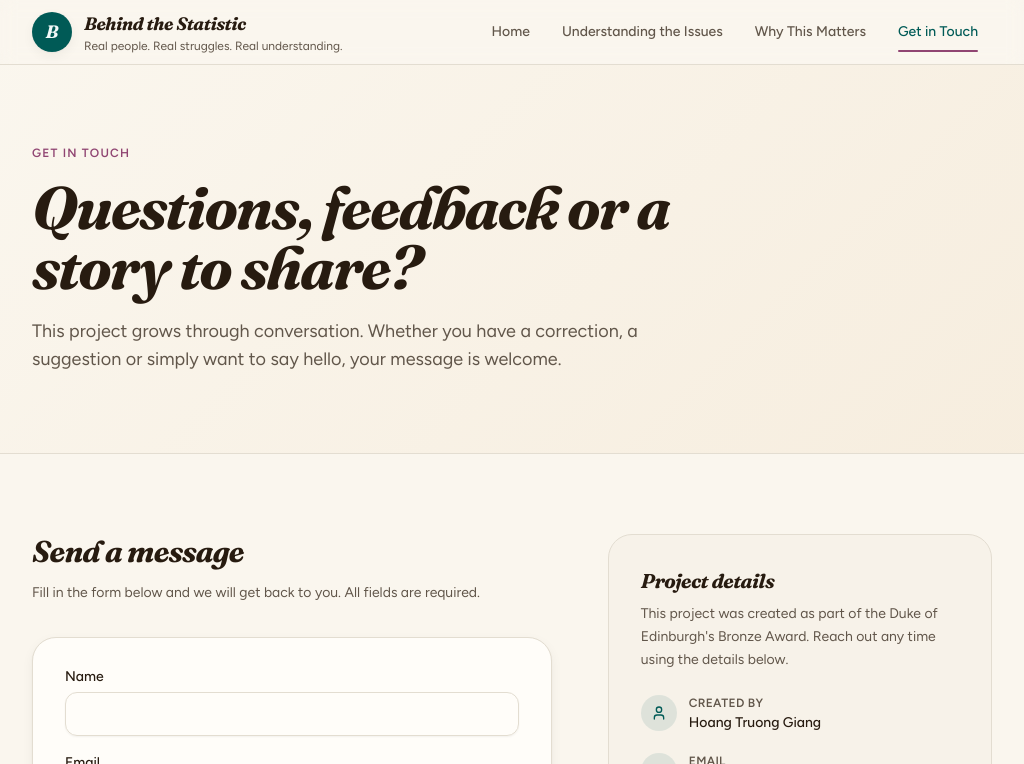
Scenario: Get in Touch — contact submission consumer contract › sends the trimmed form values to submitContact and reports success
The width and height of the screenshot is (1024, 764).
Type "  Ada Lovelace  " into the field labelled "Name".
click(292, 714); type("  Ada Lovelace  ")  # box [65,692,519,736]
(page scrolled)
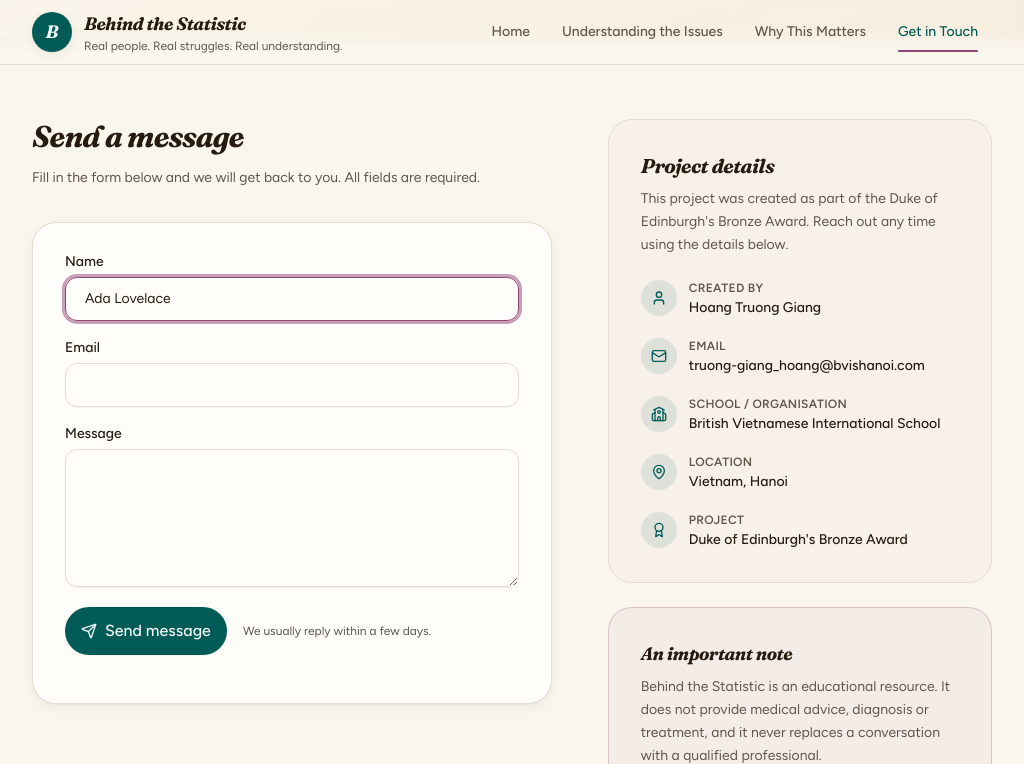
Type "  ada@example.com  " into the field labelled "Email".
click(292, 385); type("  ada@example.com  ")  # box [65,363,519,407]
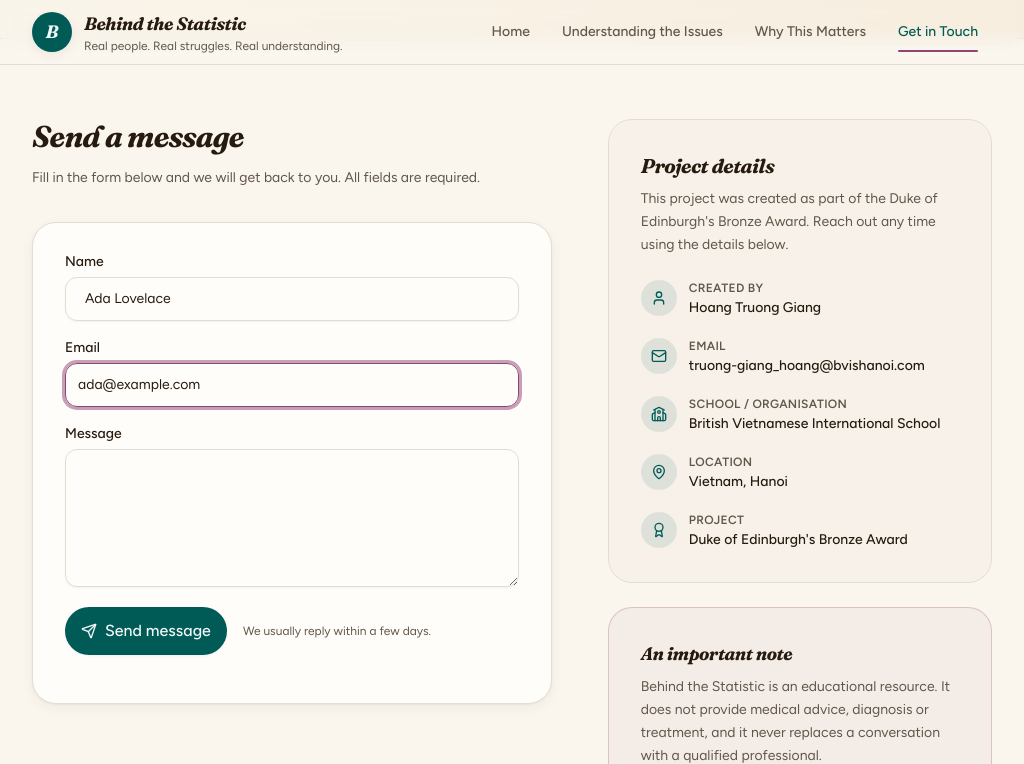
Type "  I found this resource really helpful, thank you.  " into the text box labelled "Message".
click(292, 518); type("  I found this resource really helpful, thank you.  ")  # box [65,449,519,587]
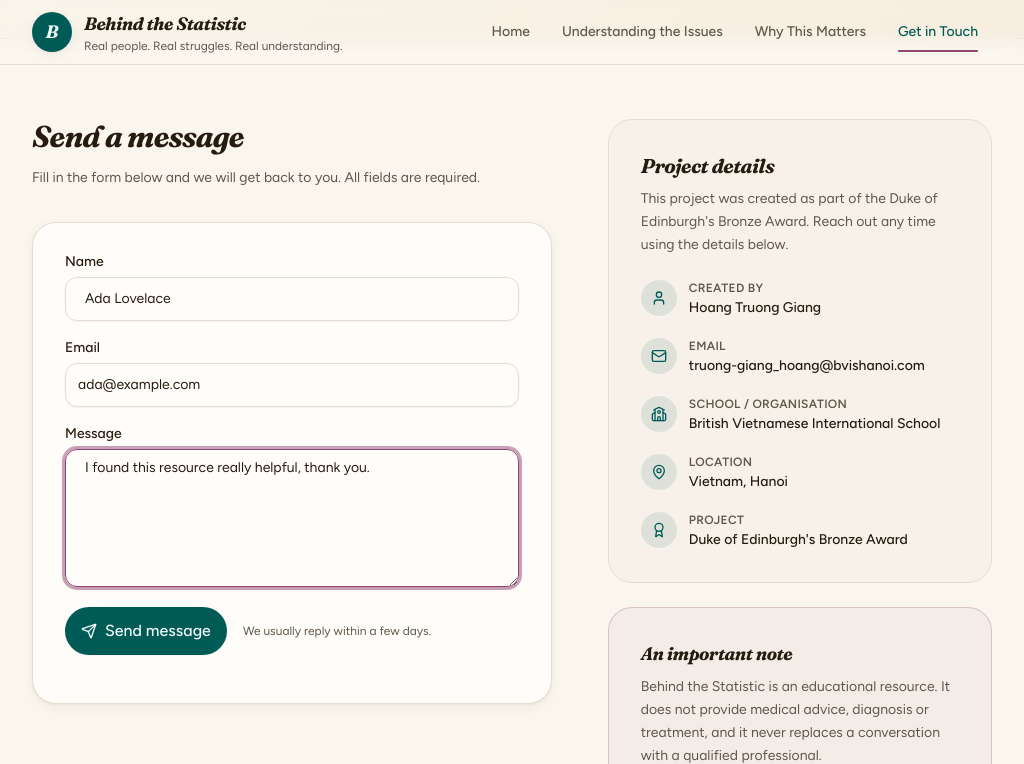
Click the button "Send message".
click(146, 631)  # box [65,607,227,655]
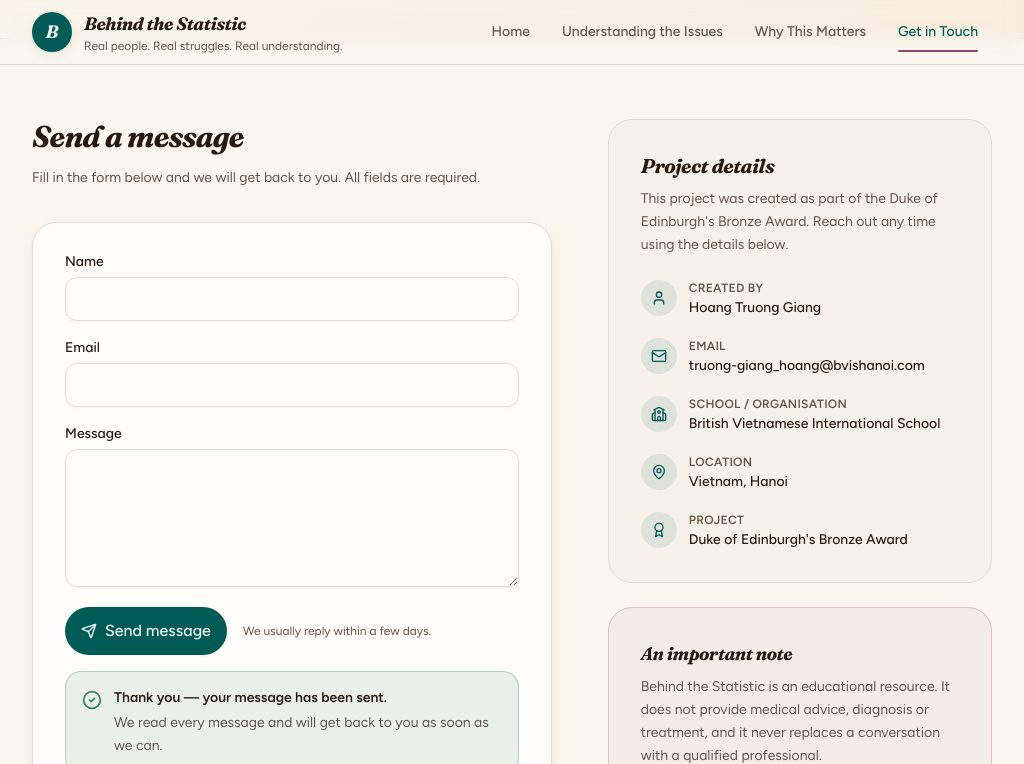
Check: the text "Thank you — your message has been sent." is shown, box [114,689,387,706]
